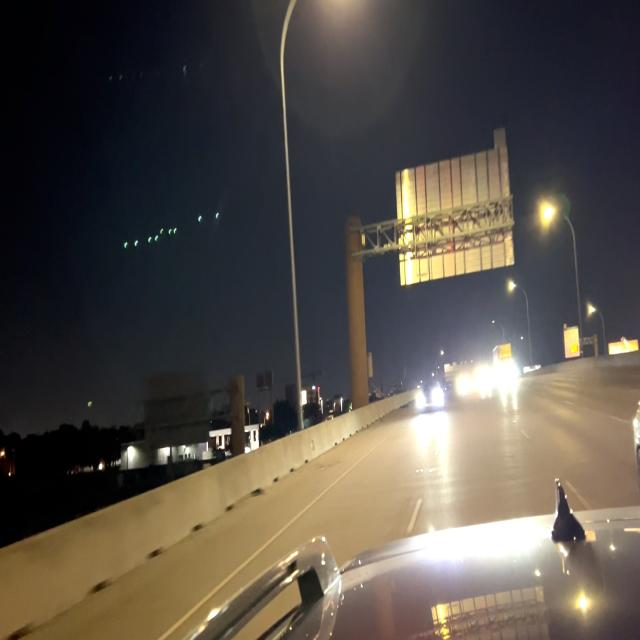back-of-sign: (394, 125, 517, 287), (140, 364, 211, 449)
